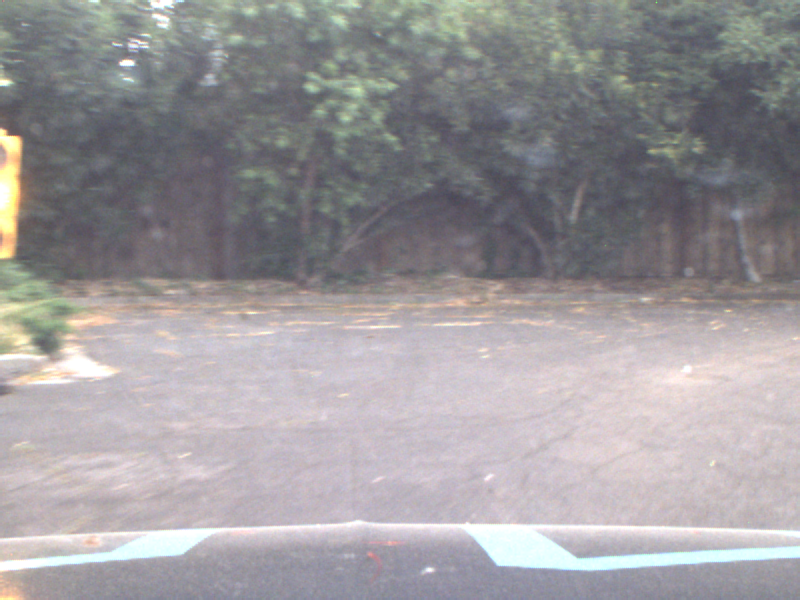Yellow: (1, 138, 20, 243)
